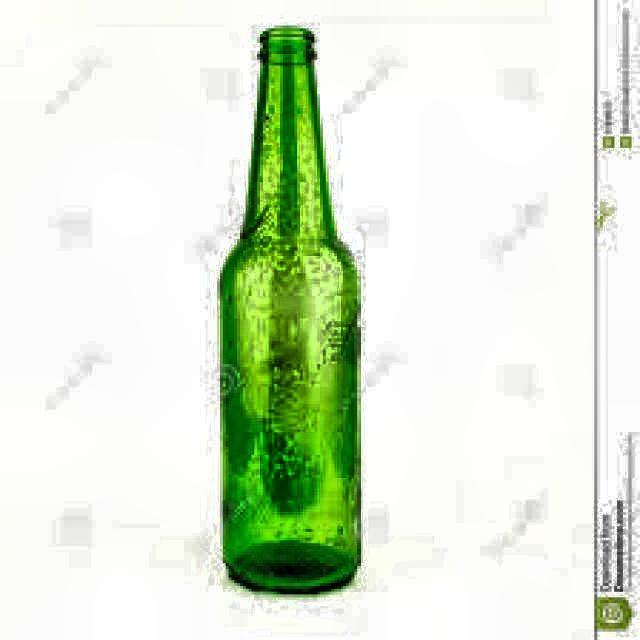glass: (217, 26, 362, 598)
